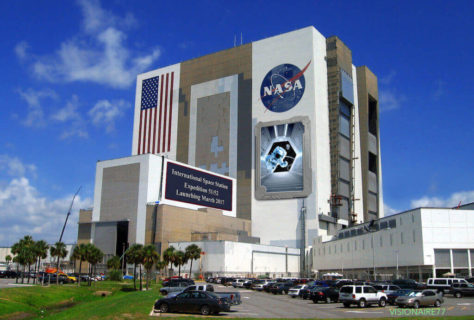NASA: (256, 55, 311, 114)
